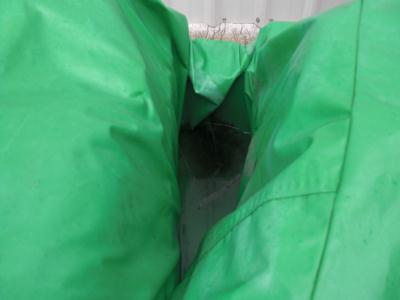plastic_bag: (1, 1, 400, 300)
